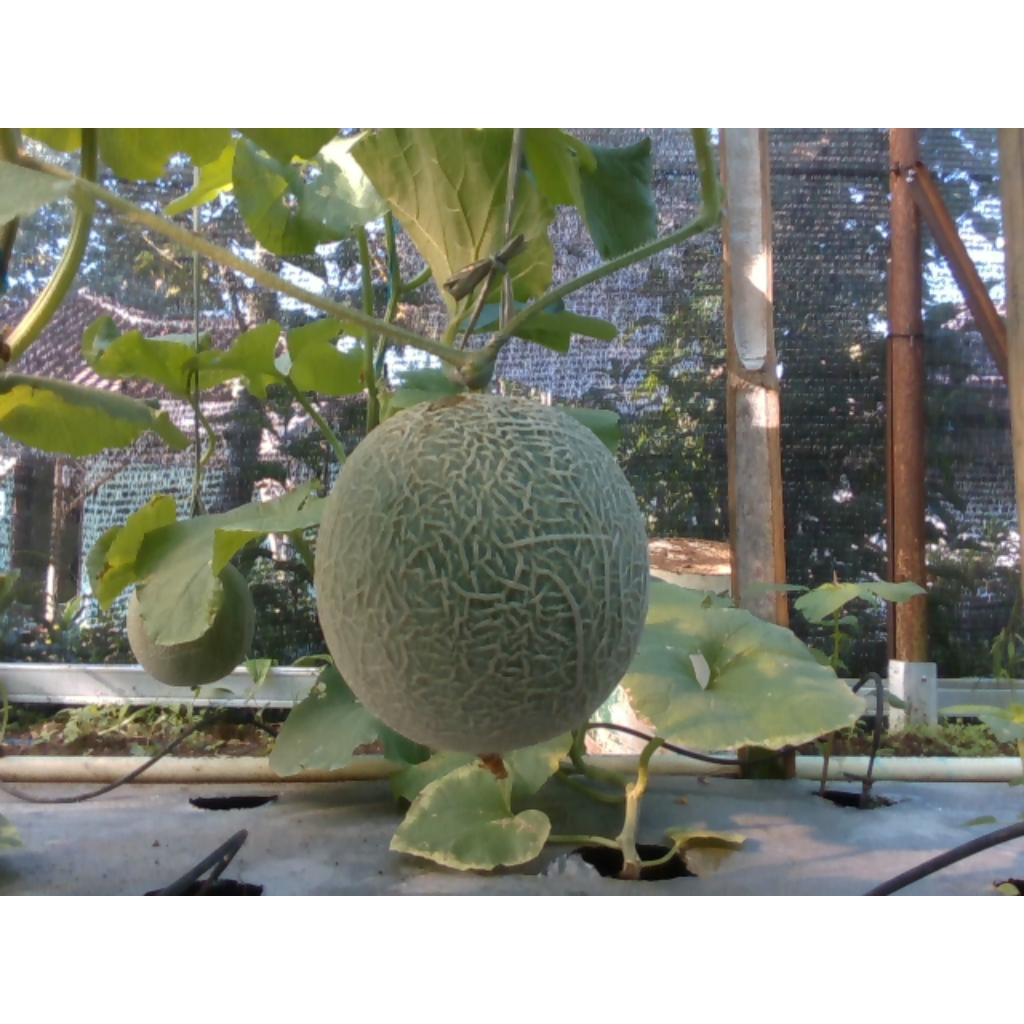melon: (315, 394, 648, 754)
